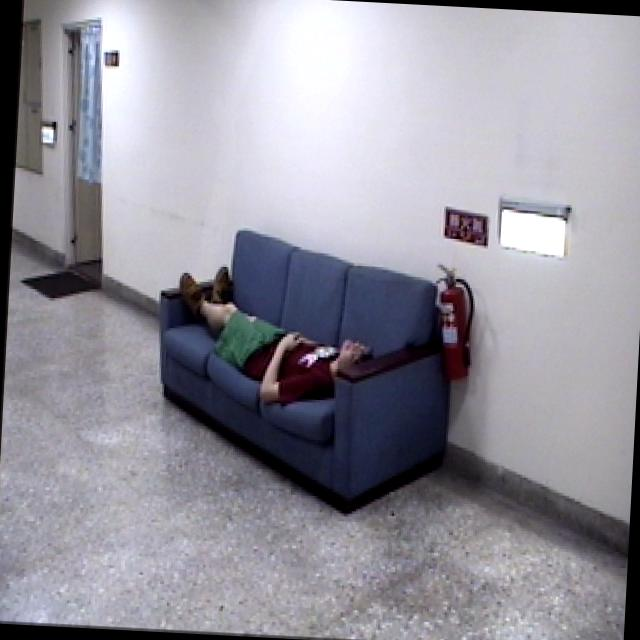lie: (167, 261, 378, 414)
